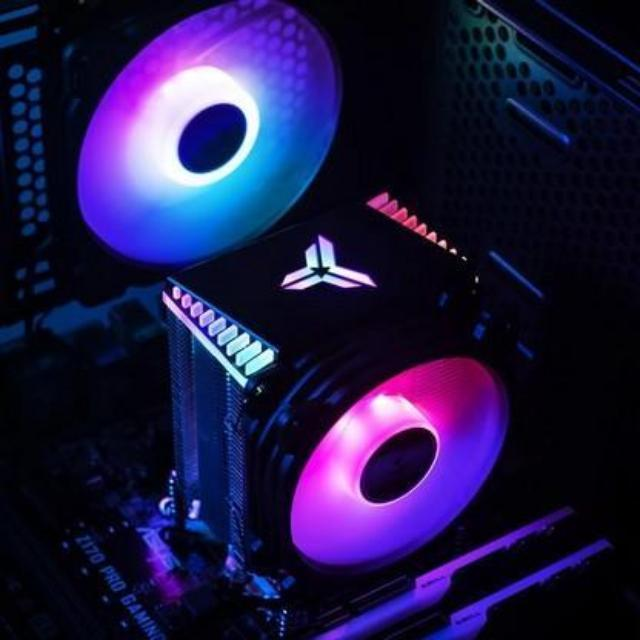CPU_Fan: (177, 188, 526, 582)
